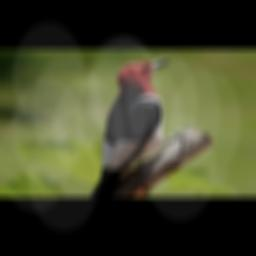Woodpecker: (87, 55, 177, 197)
